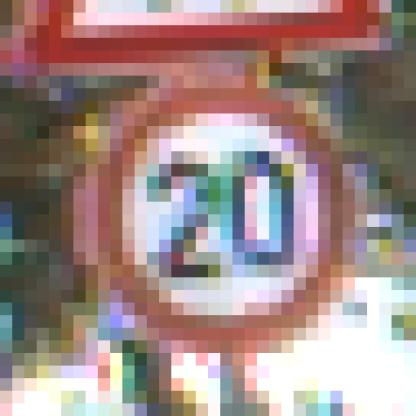Speed Limit 20: (113, 88, 338, 340)
